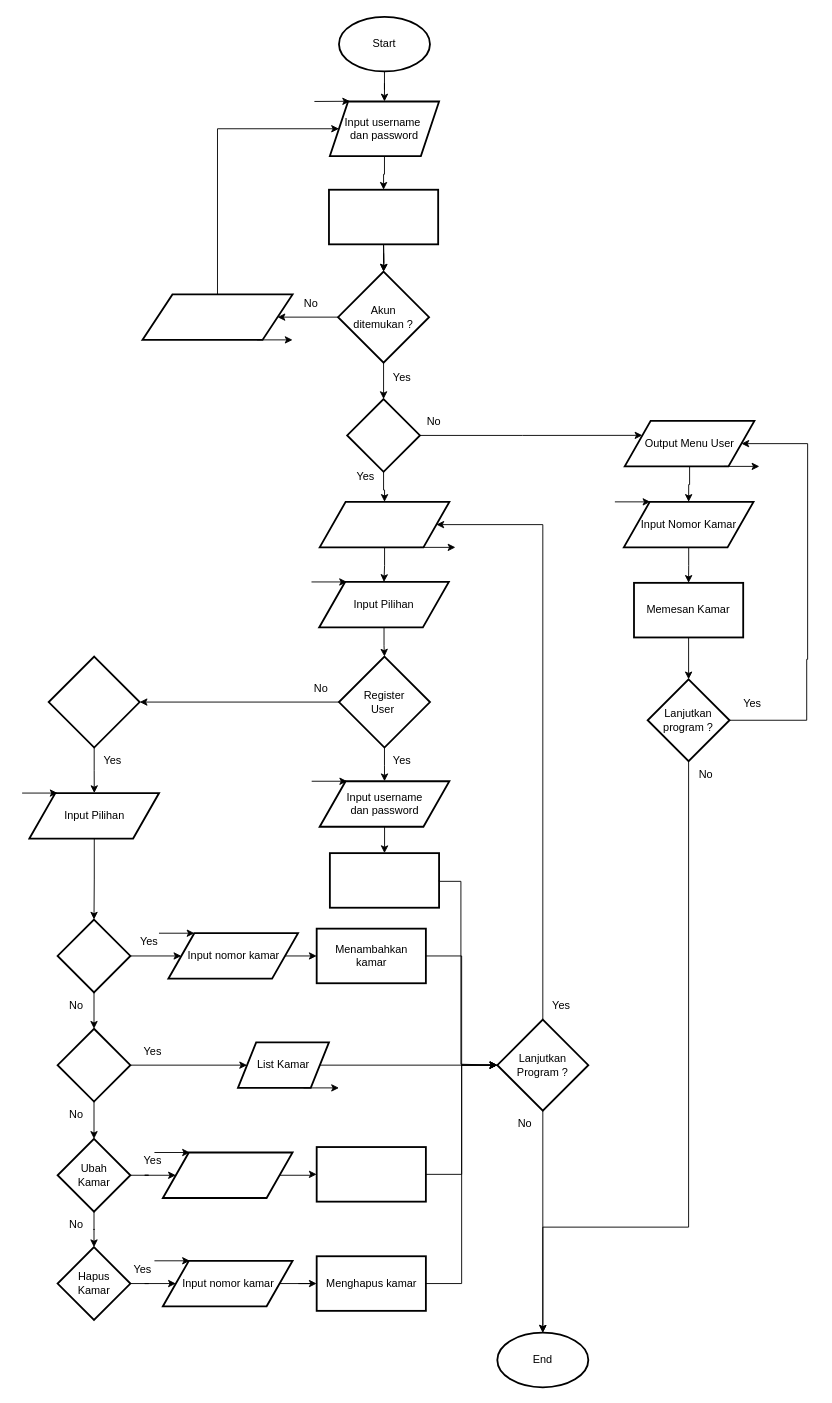
Some shapes in this 832 by 1403 pixel diagram are drawn without their labels. Here are the shapes that lost their labels. From the top down, the box of each, then its label:
(328, 188, 439, 245): User Login
(141, 293, 293, 340): output username/ password salah
(346, 398, 420, 472): Akun Admin ?
(318, 500, 450, 548): Output Menu Admin
(47, 655, 140, 748): Manage Kamar
(329, 852, 440, 908): Registerasi User
(56, 918, 131, 993): Tambah kamar
(56, 1027, 131, 1102): Lihat Kamar
(162, 1151, 293, 1198): Input nomor kamar lama dan baru
(315, 1146, 426, 1202): Mengubah Kamar
